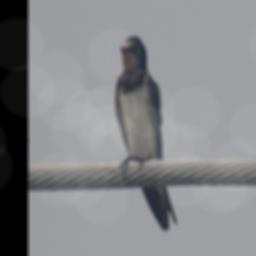Swallow: (115, 35, 178, 231)
